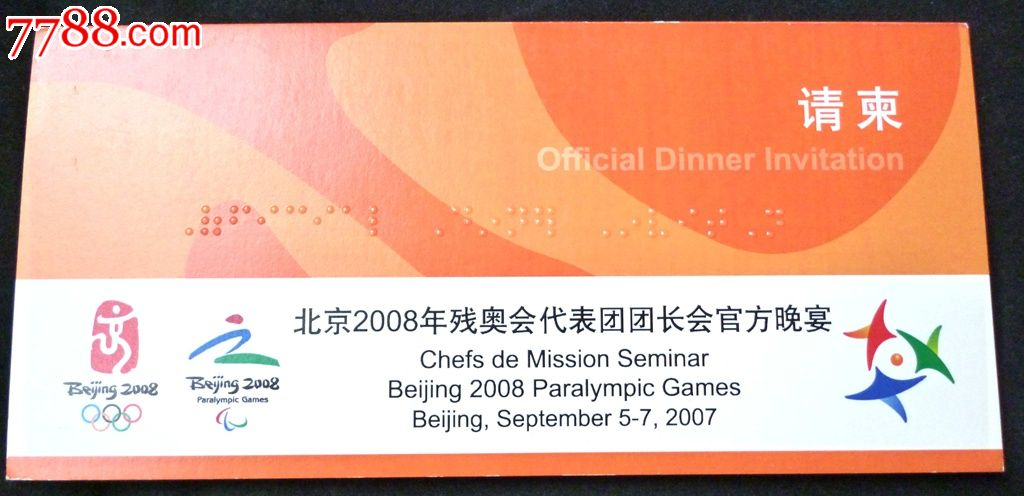Braille: (199, 203, 225, 238), (420, 204, 444, 238), (285, 203, 308, 238), (312, 204, 335, 238), (229, 204, 252, 237), (450, 204, 473, 237), (479, 204, 501, 238), (534, 207, 557, 239), (590, 206, 613, 238), (173, 204, 195, 237), (257, 204, 279, 237), (342, 205, 363, 239), (507, 205, 528, 239), (648, 206, 670, 238), (369, 205, 390, 238), (619, 206, 640, 239), (706, 208, 729, 238), (677, 207, 698, 239), (737, 208, 758, 239), (764, 208, 785, 238)
